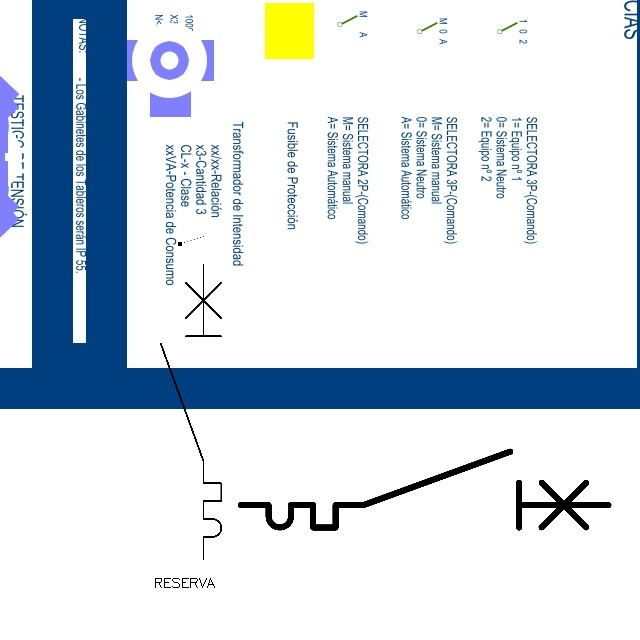interruptor_termomagnetico: (231, 442, 618, 537), (153, 257, 229, 567)
